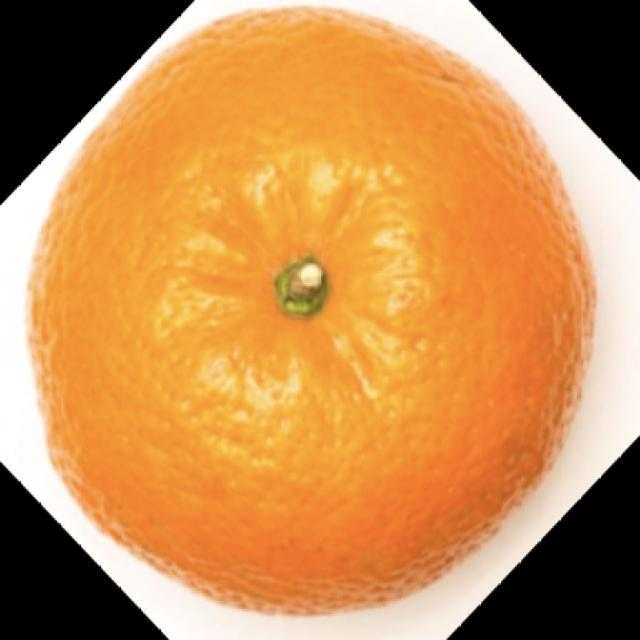Orange: (24, 3, 597, 617)
